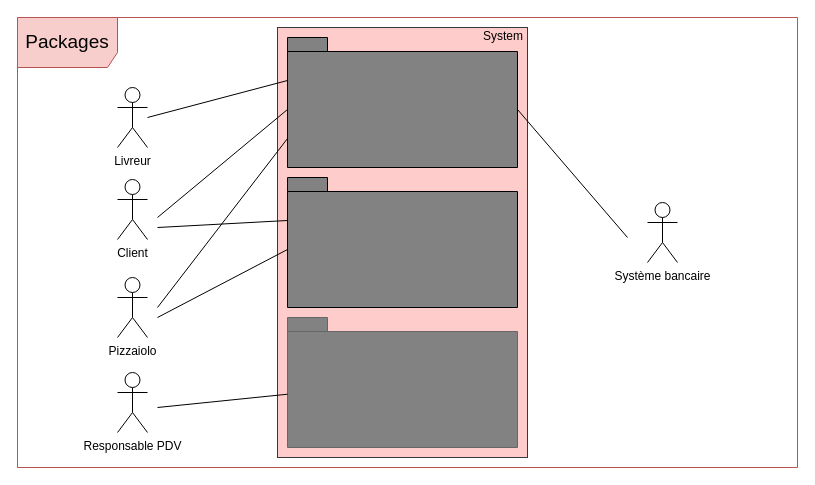
Image size: 815x485. Some labels were removed from this diagram. Each missing label, with the centre of its shape:
"Consultation produit" goes at point 402,242.
"Gestion des commandes" goes at point 402,102.
"Gestion des stocks" goes at point 402,382.
